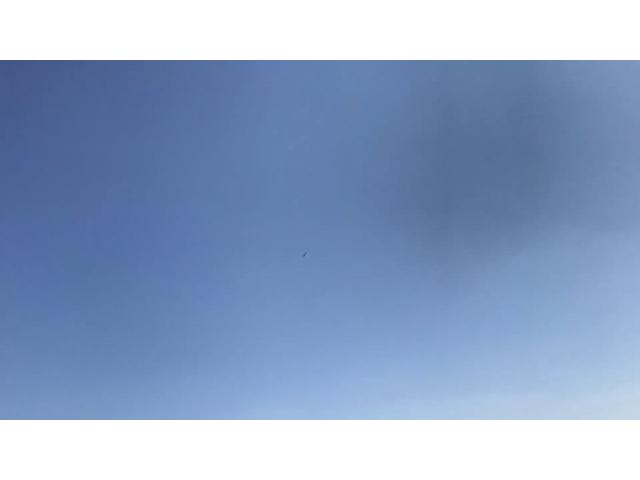Anti-Drone: (293, 247, 321, 265)
